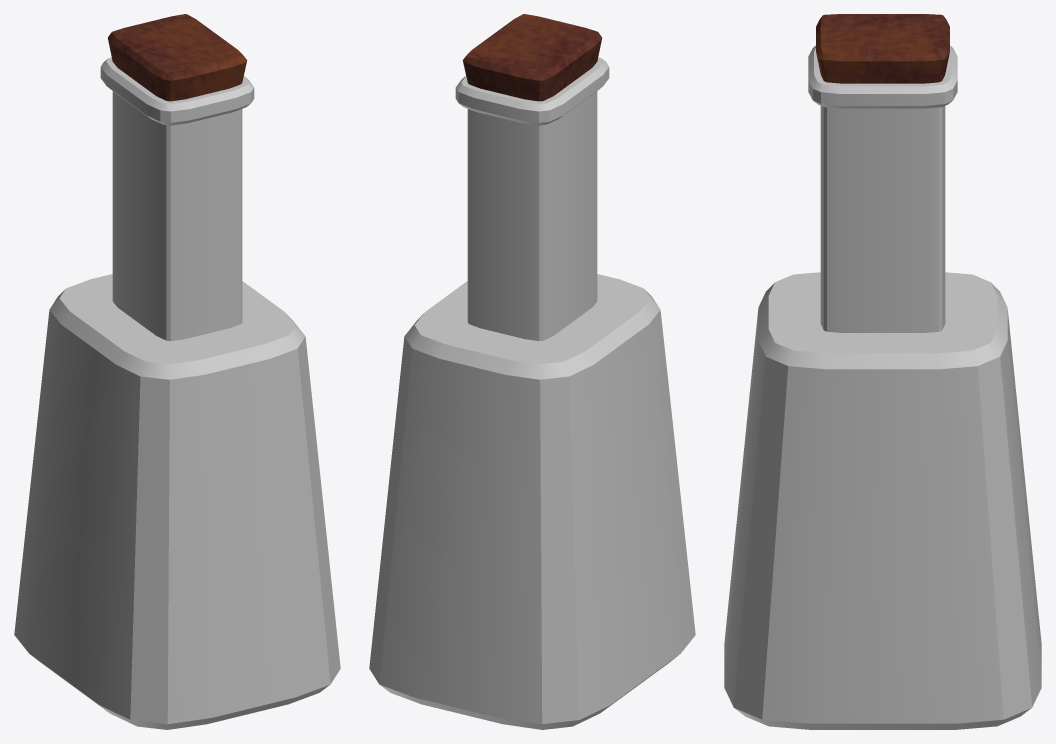
Rendered from Bottle3_Magnant_Grace.FBX.
The picture shows the model from 3 angles, left to right: view 1: azimuth 30°, elevation 25°; view 2: azimuth 150°, elevation 25°; view 3: azimuth 270°, elevation 25°; orthographic projection. The views are drawn at different scales.
Visible parts, largest first — view 1: Test; view 2: Test; view 3: Test.
Boxes of the visible parts, x1=… form: Test: x1=14, y1=14, x2=340, y2=729; Test: x1=369, y1=14, x2=695, y2=729; Test: x1=724, y1=14, x2=1041, y2=729.
Size of the model in its own units: 12 by 31.38 by 14.02.
